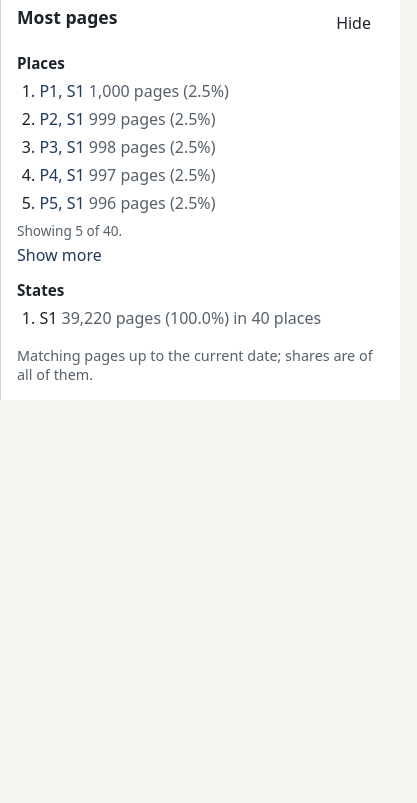
Test case: Most pages: Show more › stops at 25 and points to the table
Click the button "Show more". click: (59, 255)
box: [17, 242, 102, 268]
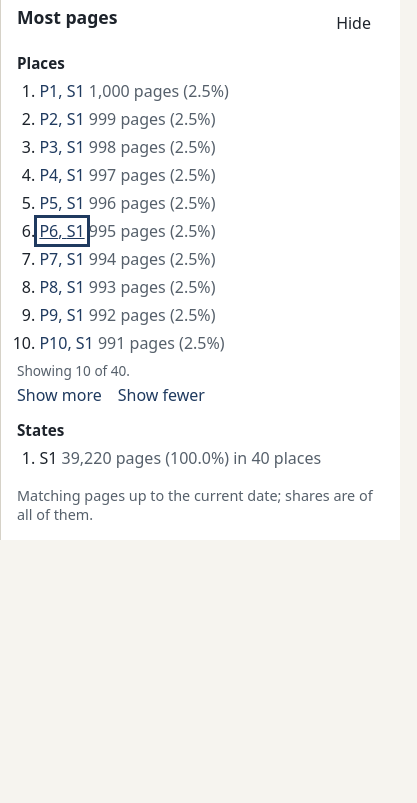
Click the button "Show more". click: (59, 395)
box: [17, 382, 102, 408]
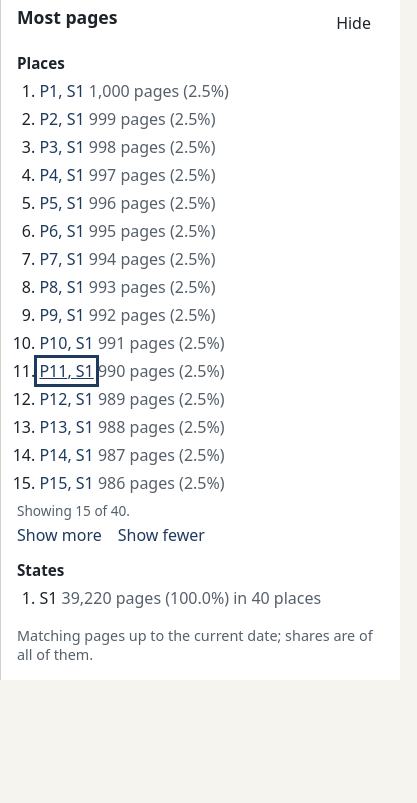
Click the button "Show more". click: (59, 535)
box: [17, 522, 102, 548]
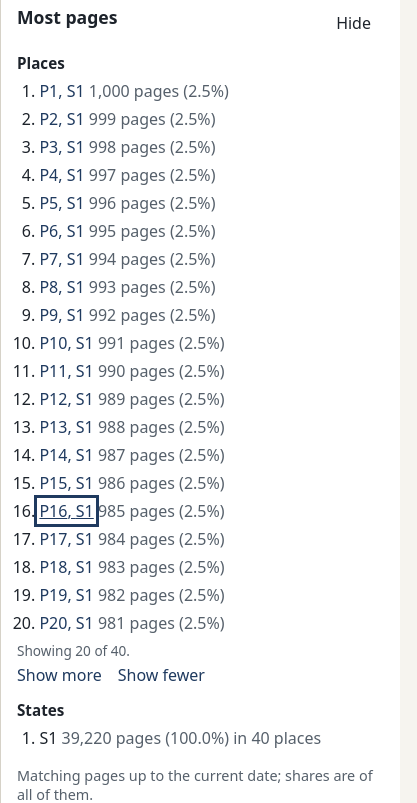
Click the button "Show more". click: (59, 675)
box: [17, 662, 102, 688]
(page scrolled)
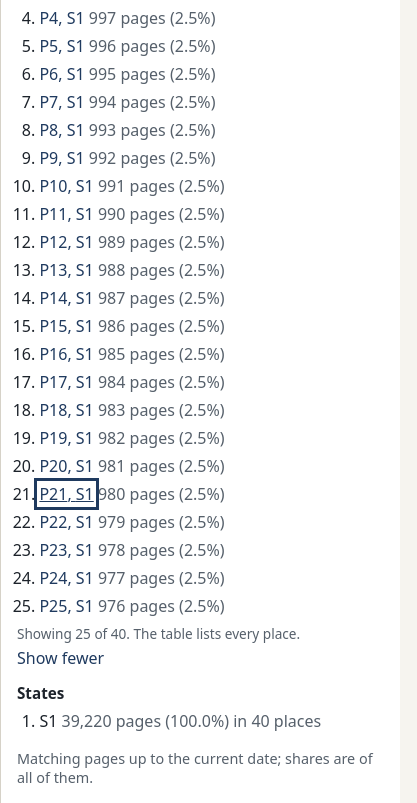
Result: the button "Show fewer" is shown at [17, 645, 104, 671]
Result: the button "Show more" is gone
